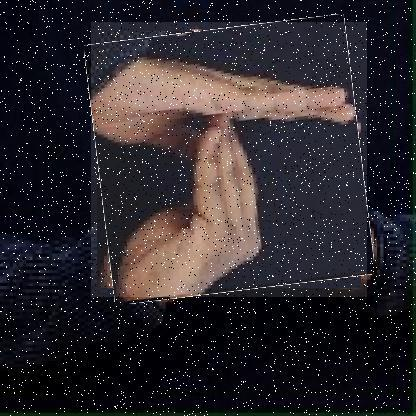Z: (91, 22, 368, 298)
